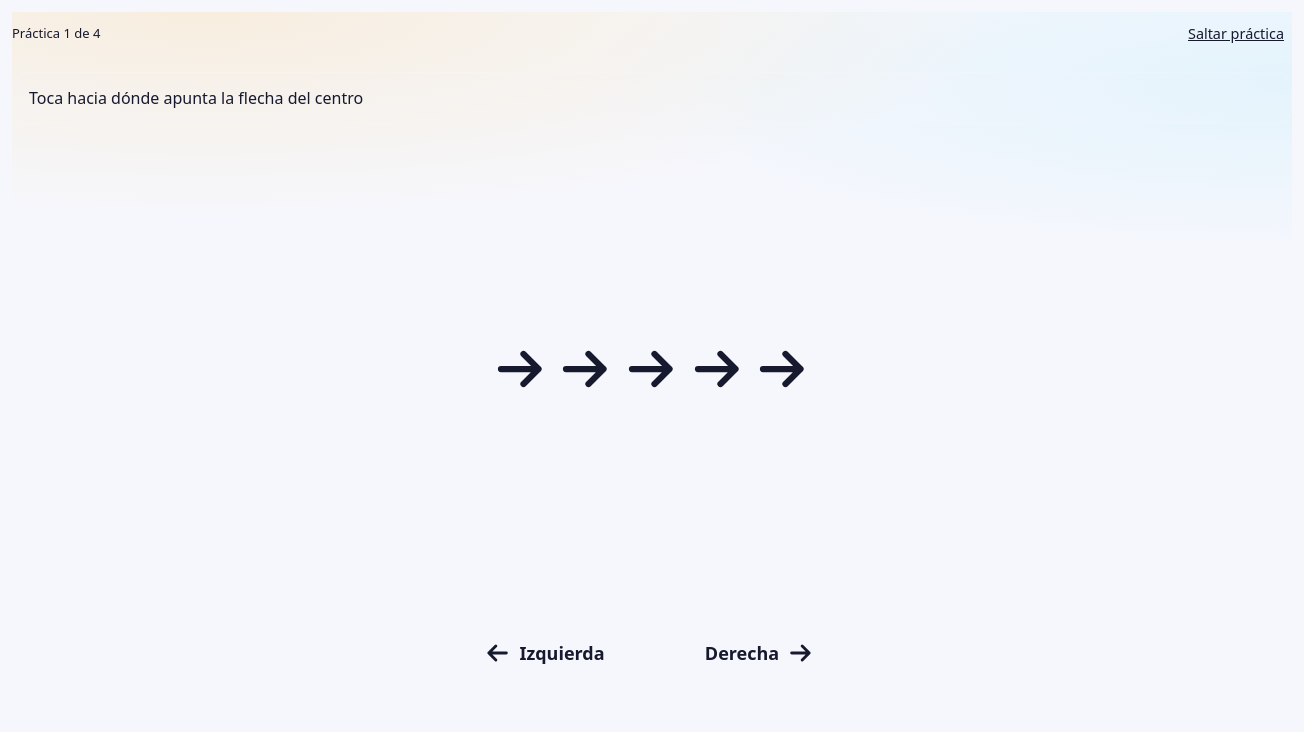
Scenario: a wrong answer in round 3 hints the center and keeps the round
Step 1. Click the button "Derecha" → x=760, y=653, box left=660, top=614, right=860, bottom=692
Wait 700 ms
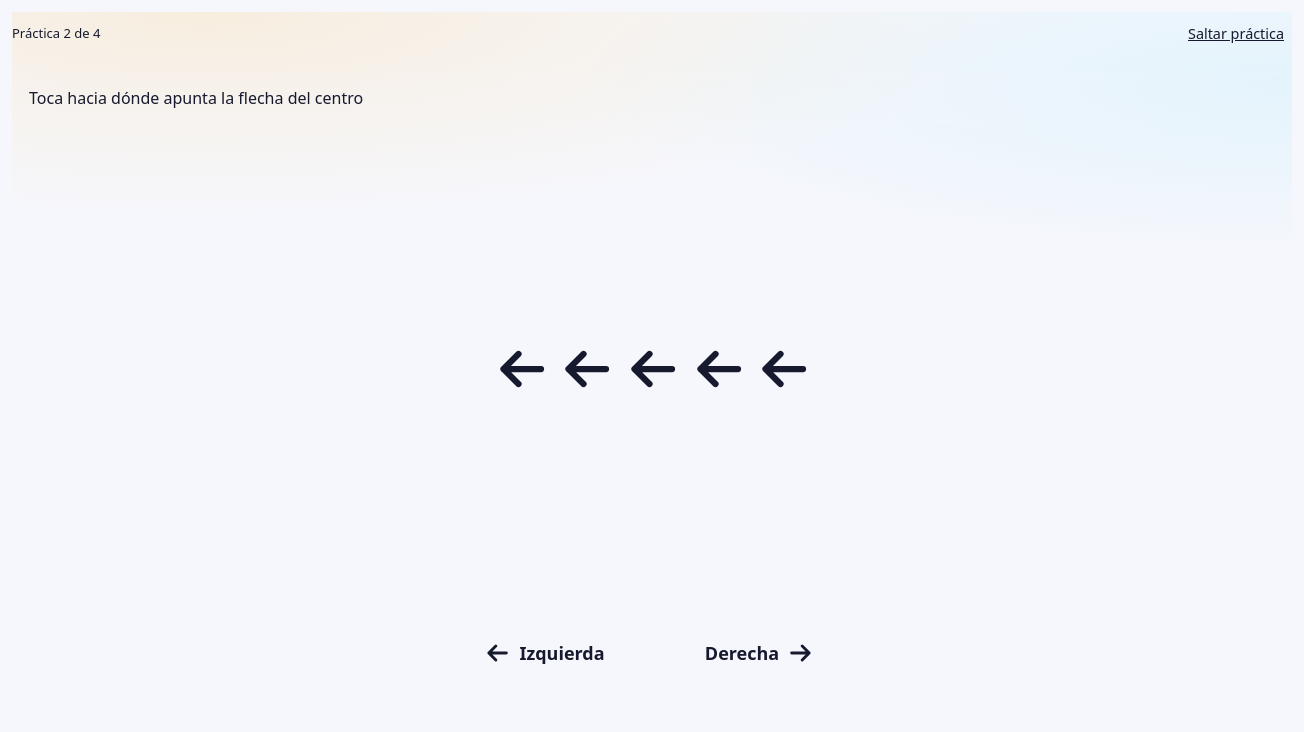
Step 2. Click the button "Izquierda" → x=544, y=653, box left=444, top=614, right=644, bottom=692
Wait 700 ms
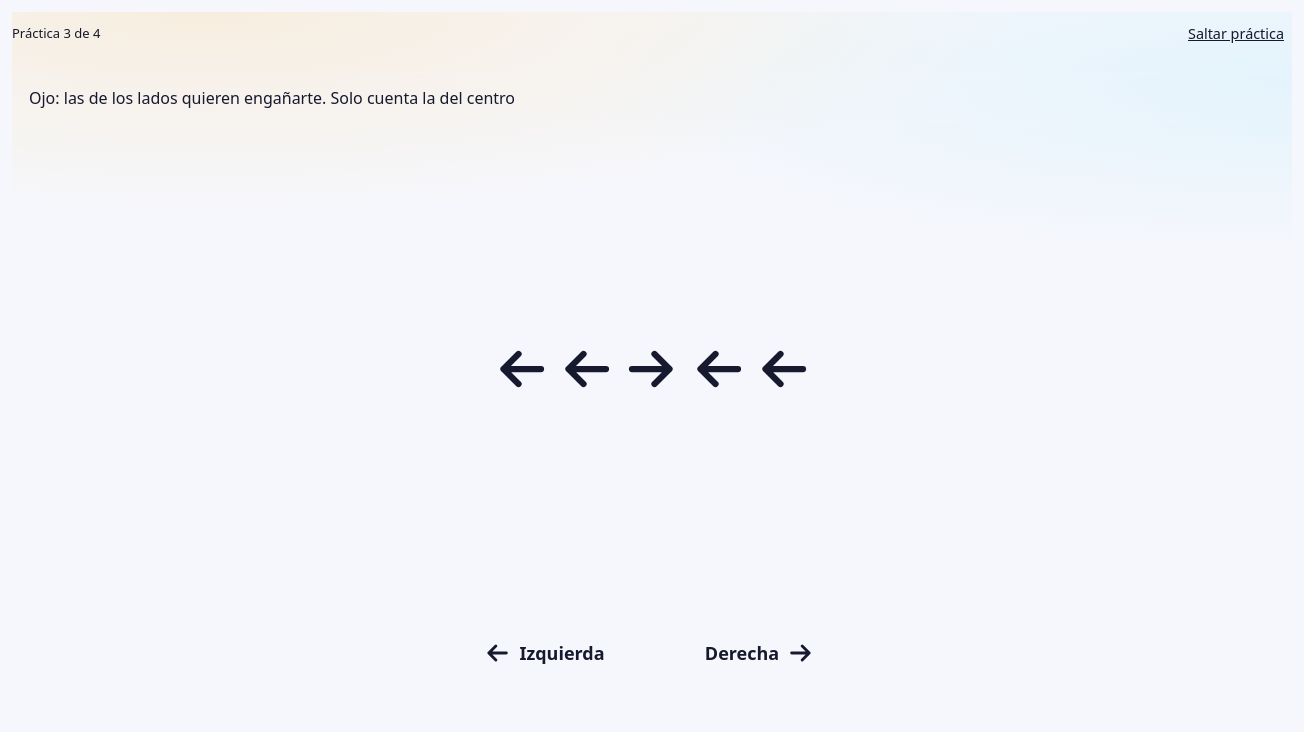
Step 3. Click the button "Izquierda" → x=544, y=653, box left=444, top=614, right=644, bottom=692
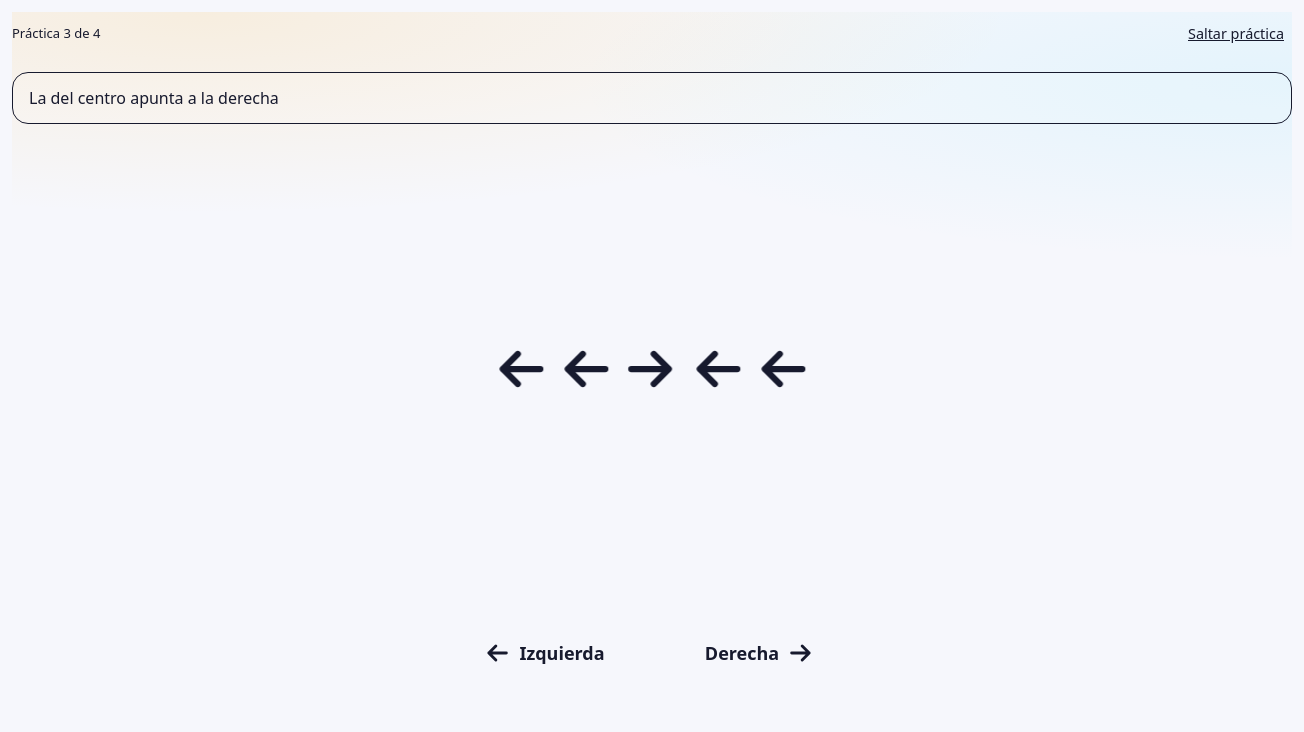
Result: the text "Práctica 3 de 4" is shown at left=12, top=24, right=100, bottom=44
Result: the text "La del centro apunta a la derecha" is shown at left=12, top=72, right=1292, bottom=124
